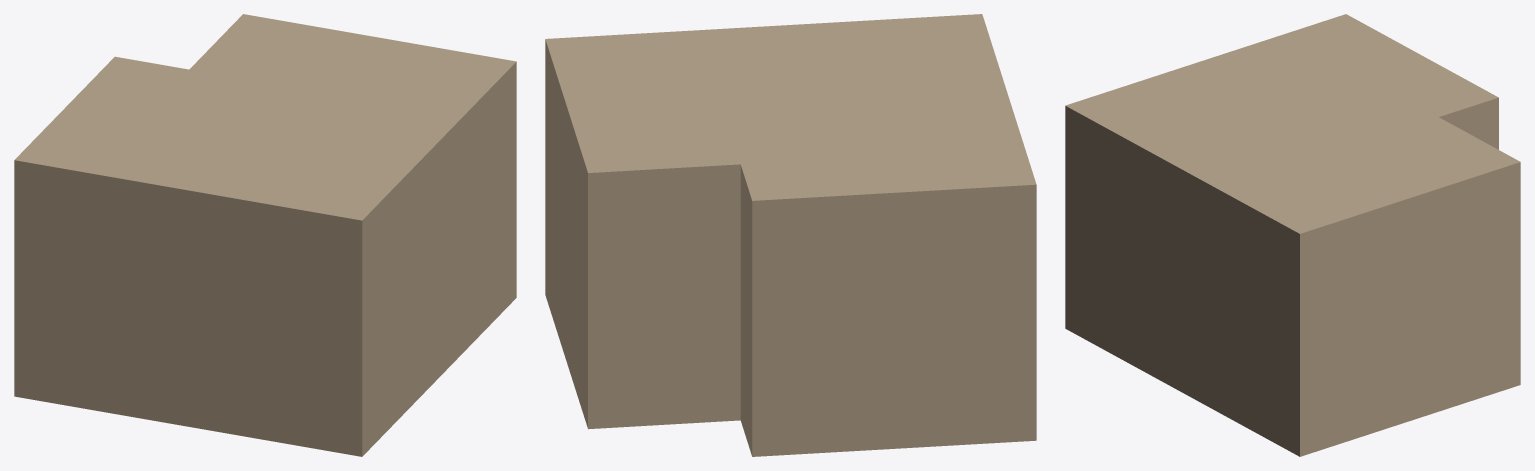
Rendered from bld_108161947.dae.
The picture shows the model from 3 angles, left to right: view 1: azimuth 30°, elevation 25°; view 2: azimuth 150°, elevation 25°; view 3: azimuth 270°, elevation 25°; orthographic projection. The views are drawn at different scales.
Parts seen in each view (by area): view 1: bld_108161947; view 2: bld_108161947; view 3: bld_108161947.
Boxes of the visible parts, x1,y1,x2,y2 form: bld_108161947: (14,14,516,456); bld_108161947: (545,14,1036,456); bld_108161947: (1065,14,1520,456).
Size of the model in its own units: 16.93 by 14.81 by 8.
